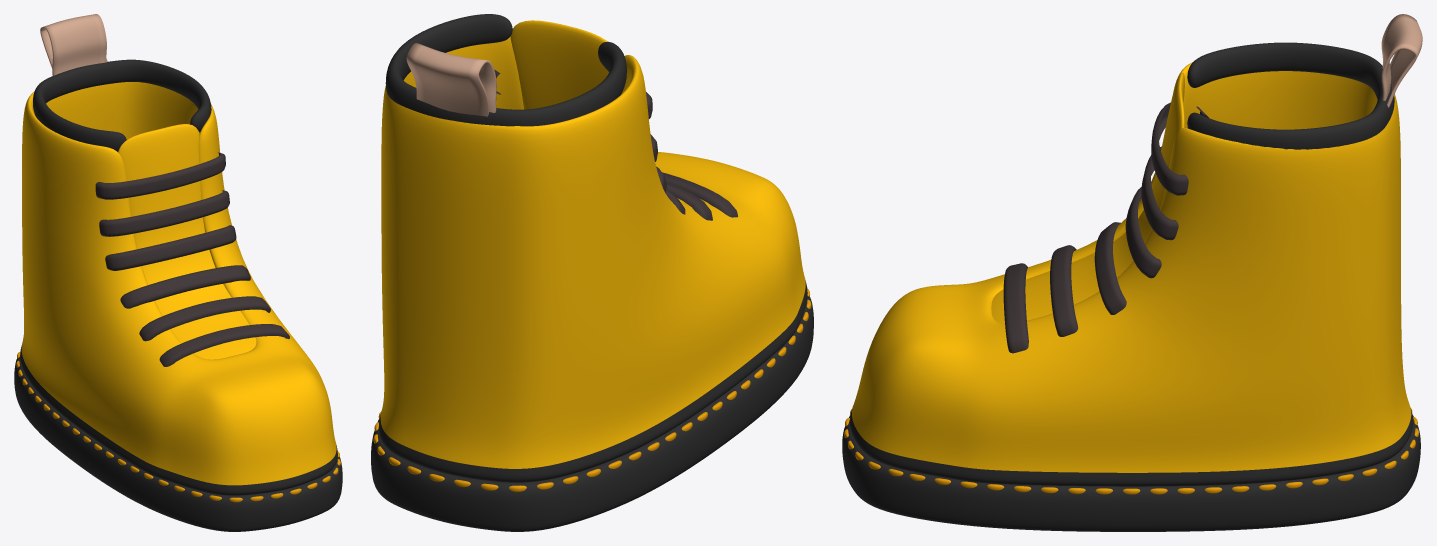
Rendered from boot.fbx.
The picture shows the model from 3 angles, left to right: view 1: azimuth 30°, elevation 25°; view 2: azimuth 150°, elevation 25°; view 3: azimuth 270°, elevation 25°; orthographic projection. The views are drawn at different scales.
Visible parts, largest first — view 1: Heavy boots; view 2: Heavy boots; view 3: Heavy boots.
Part boxes in pixels (box(x1,y1,x2,y2)): Heavy boots: box(14, 14, 342, 531); Heavy boots: box(371, 14, 813, 531); Heavy boots: box(842, 14, 1422, 531).
Size of the model in its own units: 15.93 by 26.14 by 30.89.
